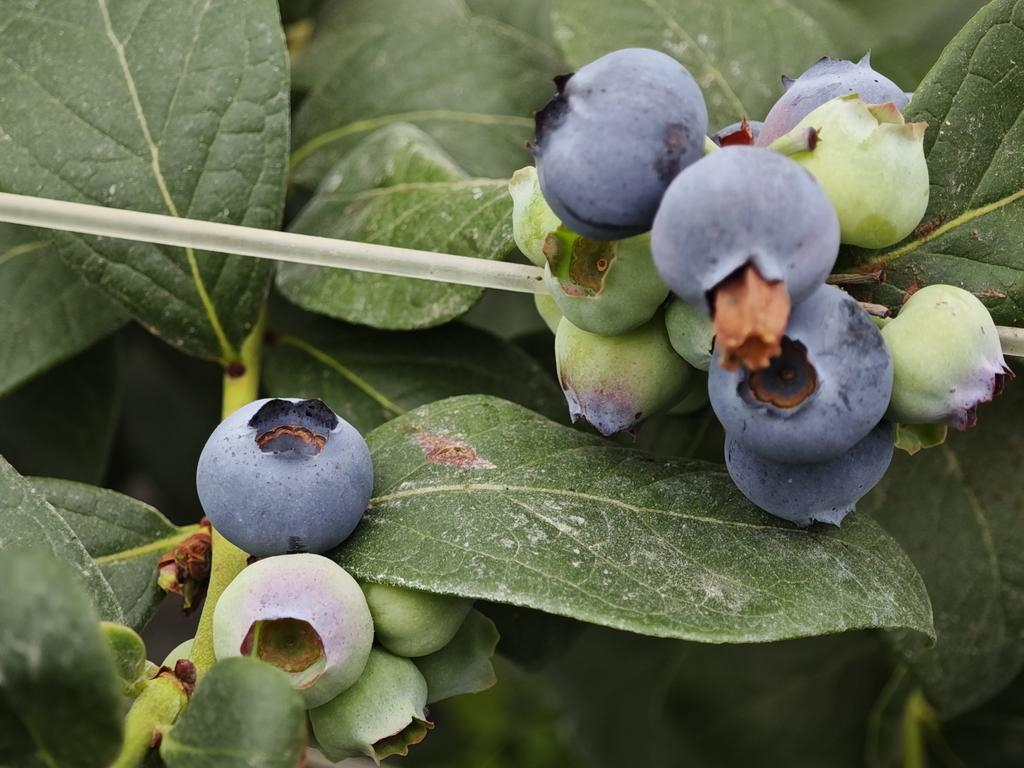RipeBlueBerry: (650, 147, 845, 327), (703, 288, 897, 468), (533, 42, 710, 239), (192, 395, 379, 554)
UnripeBlueBerry: (883, 283, 1010, 431)
